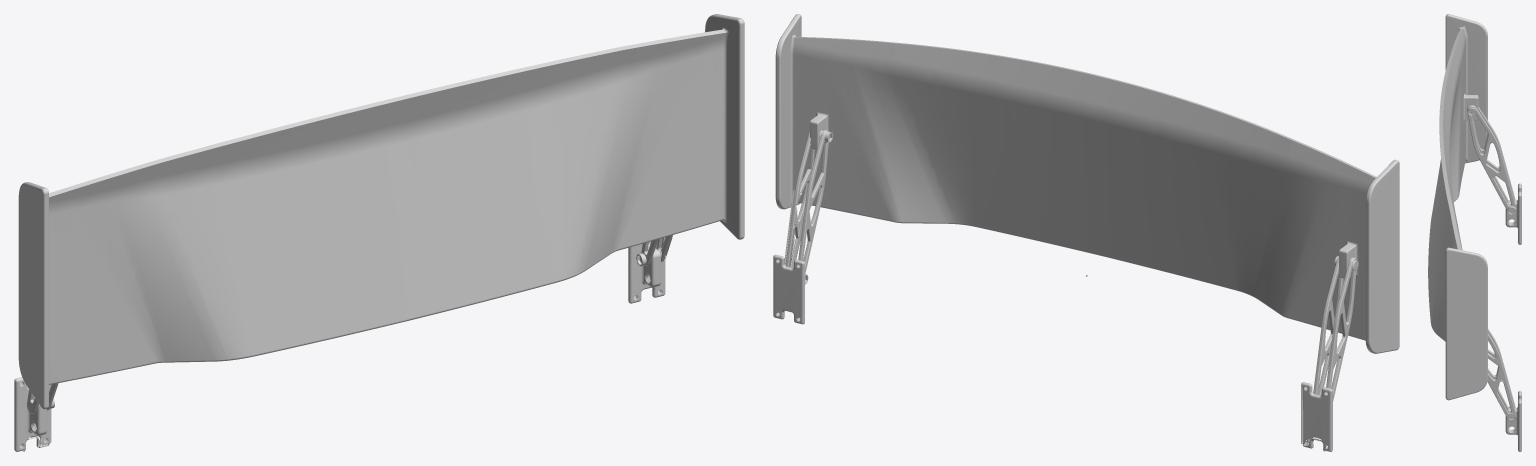
The model's file is default_car.glb.
3 renders of one model, left to right at view 1: azimuth 30°, elevation 25°; view 2: azimuth 150°, elevation 25°; view 3: azimuth 270°, elevation 25°, orthographic. The views are drawn at different scales.
Parts seen in each view (by area): view 1: Object_3, Object_2; view 2: Object_3, Object_4, Object_2; view 3: Object_3, Object_2, Object_4.
Boxes of the visible parts, bbox=[...] form: Object_3: bbox=[14, 14, 744, 451]; Object_2: bbox=[20, 237, 664, 451]; Object_3: bbox=[775, 14, 1399, 451]; Object_4: bbox=[773, 131, 815, 323]; Object_2: bbox=[773, 130, 1358, 451]; Object_3: bbox=[1428, 14, 1521, 420]; Object_2: bbox=[1467, 107, 1521, 451]; Object_4: bbox=[1487, 333, 1521, 451].
Size of the model in its own units: 1436 by 621 by 242.
14 materials, 9 textured.
